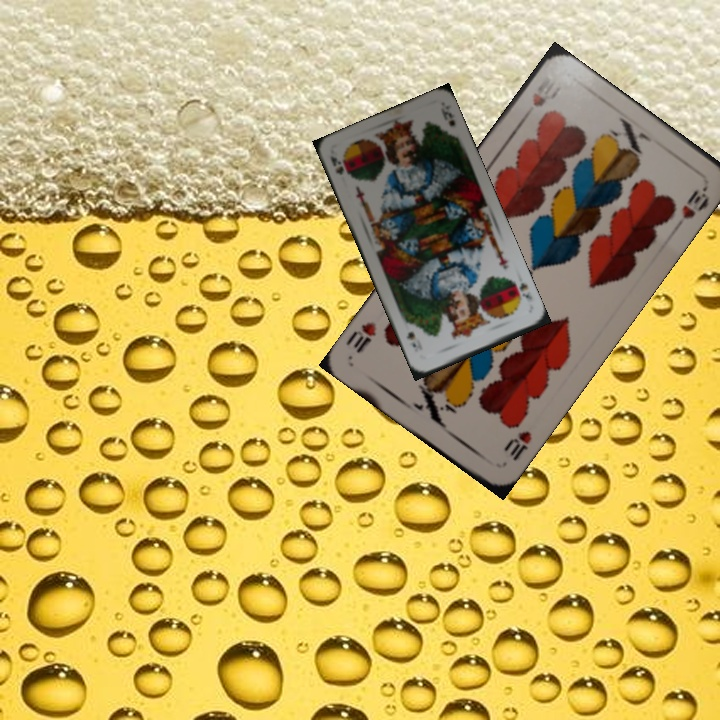H10: (518, 68, 560, 124), (499, 426, 535, 464)
SK: (508, 277, 535, 306), (326, 152, 351, 178)
